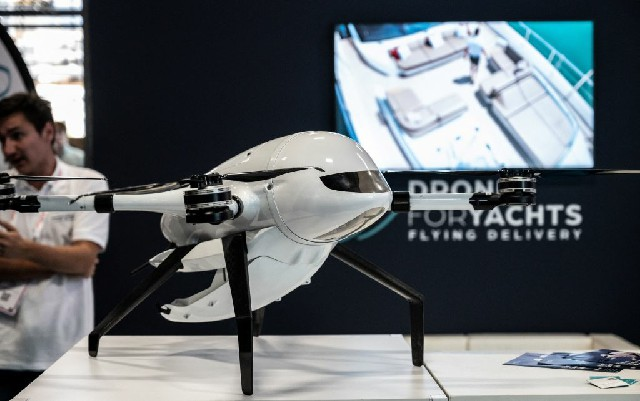maybay_khongnguoilai: (9, 128, 539, 358)
